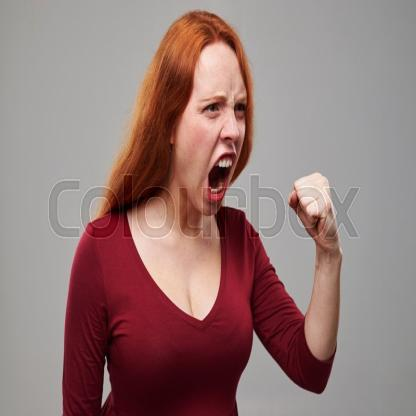fist: (274, 162, 352, 257)
